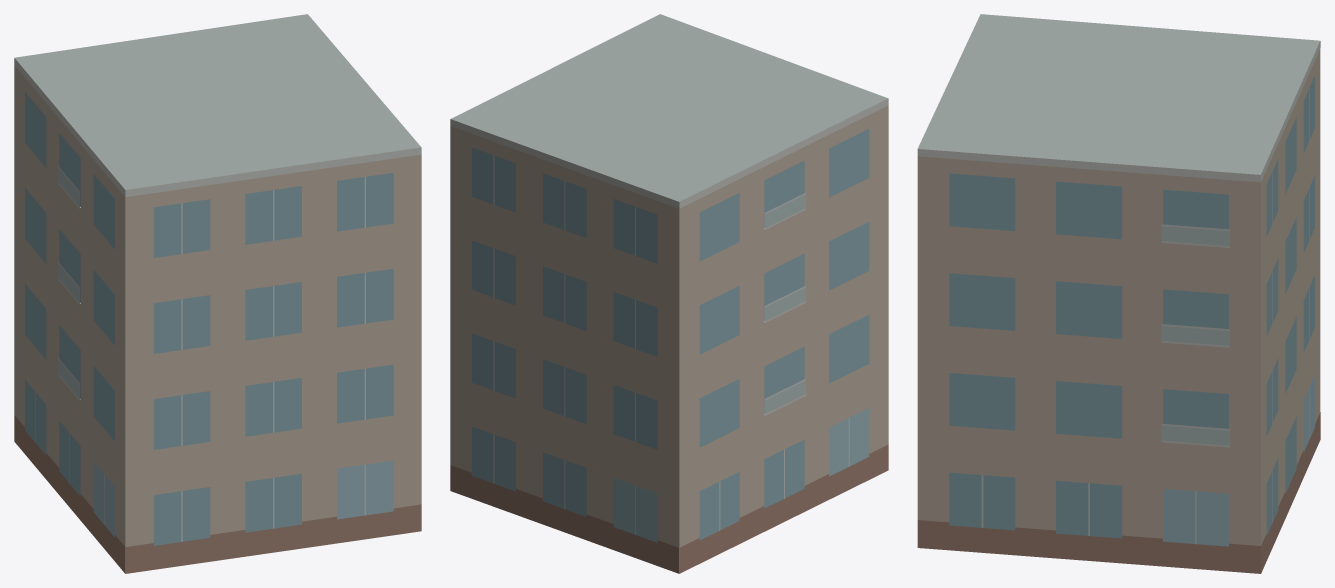
File: survey-upis-32613330.glb
The picture shows the model from 3 angles, left to right: view 1: azimuth 30°, elevation 25°; view 2: azimuth 150°, elevation 25°; view 3: azimuth 270°, elevation 25°; orthographic projection. The views are drawn at different scales.
Parts seen in each view (by area): view 1: survey-upis-32613330.tmp; view 2: survey-upis-32613330.tmp; view 3: survey-upis-32613330.tmp.
Boxes of the visible parts, box(x1,y1,x2,y2) form: survey-upis-32613330.tmp: box(14, 14, 421, 573); survey-upis-32613330.tmp: box(450, 14, 888, 573); survey-upis-32613330.tmp: box(917, 14, 1320, 573).
Size of the model in its own units: 11.43 by 13.2 by 12.09.
